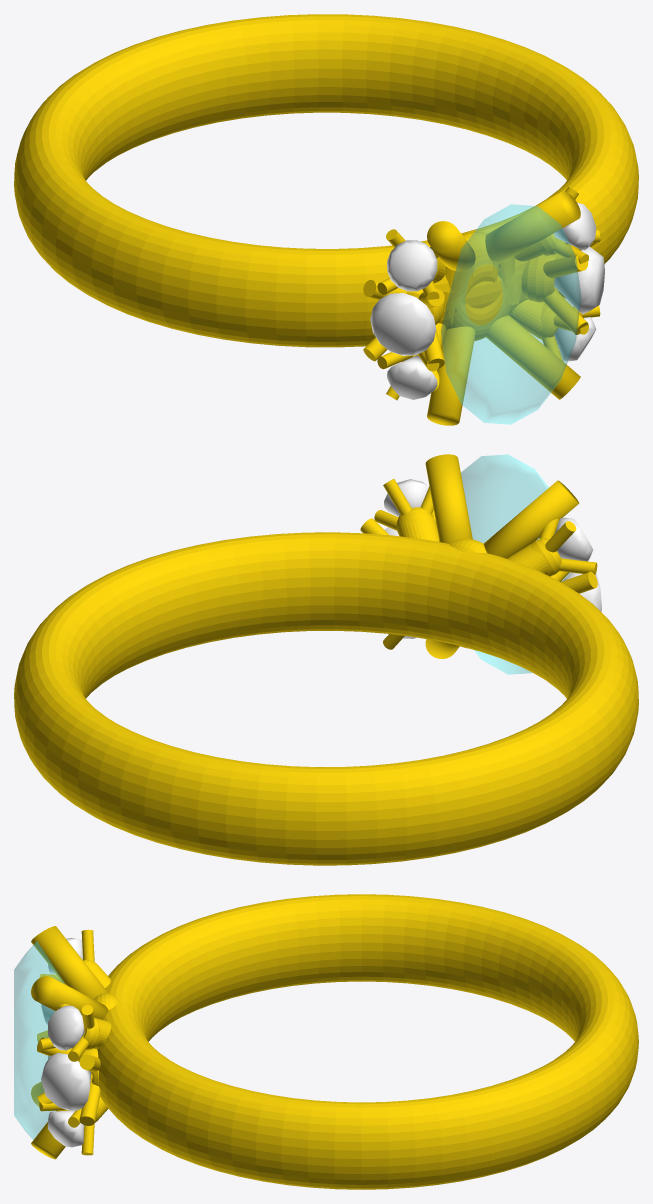
File: ring.glb
3 views of the same model, one above another, from view 1: azimuth 30°, elevation 25°; view 2: azimuth 150°, elevation 25°; view 3: azimuth 270°, elevation 25° (orthographic). The views are drawn at different scales.
Visible parts, largest first — view 1: Torus14mmInner, Diamond, Diamond.006, MyTorus.010, MyTorus.009, Cylinder.019, MyTorus.003, Cylinder.004, MyTorus.002, Cylinder.027, Cylinder.014, Cylinder.008 (+3 smaller); view 2: Torus14mmInner, Diamond.006, Diamond, Cylinder.022, Cylinder.014, Cylinder.019, Cylinder.008, MyTorus.002; view 3: Torus14mmInner, Diamond, Diamond.006, MyTorus.003, MyTorus.009, Cylinder.014, Cylinder.008, Cylinder.007, Cylinder.004, Cylinder.022.
Part boxes in pixels (box(x1,y1,x2,y2)): Torus14mmInner: box(14, 14, 638, 347); Diamond: box(441, 204, 580, 424); Diamond.006: box(427, 191, 580, 425); MyTorus.010: box(370, 293, 436, 355); MyTorus.009: box(521, 239, 600, 334); Cylinder.019: box(387, 240, 437, 291); MyTorus.003: box(554, 246, 604, 314); Cylinder.004: box(510, 299, 600, 360); MyTorus.002: box(363, 280, 444, 368); Cylinder.027: box(387, 355, 437, 399); Cylinder.014: box(514, 186, 600, 264); Cylinder.008: box(554, 202, 596, 249); Torus14mmInner: box(14, 532, 638, 865); Diamond.006: box(425, 454, 579, 675); Diamond: box(461, 454, 570, 674); Cylinder.022: box(507, 518, 597, 576); Cylinder.014: box(374, 479, 439, 541); Cylinder.019: box(555, 517, 593, 561); Cylinder.008: box(384, 479, 428, 516); MyTorus.002: box(550, 571, 597, 593); Torus14mmInner: box(91, 894, 638, 1189); Diamond: box(14, 941, 64, 1139); Diamond.006: box(31, 926, 118, 1159); MyTorus.003: box(41, 1053, 91, 1110); MyTorus.009: box(37, 1037, 100, 1125); Cylinder.014: box(39, 1004, 111, 1061); Cylinder.008: box(48, 1005, 84, 1050); Cylinder.007: box(48, 1110, 84, 1147); Cylinder.004: box(39, 1097, 108, 1155); Cylinder.022: box(39, 929, 110, 988).
Bounding box in the file's own units: 0.018 × 0.007 × 0.0203.
